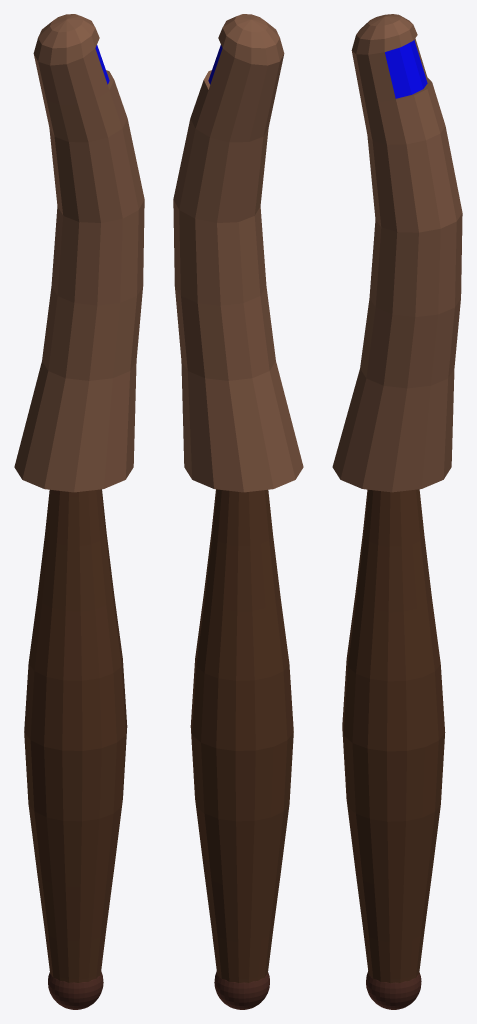
File: Wand 143.glb
The picture shows the model from 3 angles, left to right: view 1: azimuth 30°, elevation 25°; view 2: azimuth 150°, elevation 25°; view 3: azimuth 330°, elevation 25°; orthographic projection.
Parts seen in each view (by area): view 1: GeneratedWand; view 2: GeneratedWand; view 3: GeneratedWand.
Boxes of the visible parts, <box> form: GeneratedWand: <box>14,14,144,1009</box>; GeneratedWand: <box>173,14,303,1009</box>; GeneratedWand: <box>332,14,462,1009</box>.
Size of the model in its own units: 0.0644 by 0.523 by 0.0572.
